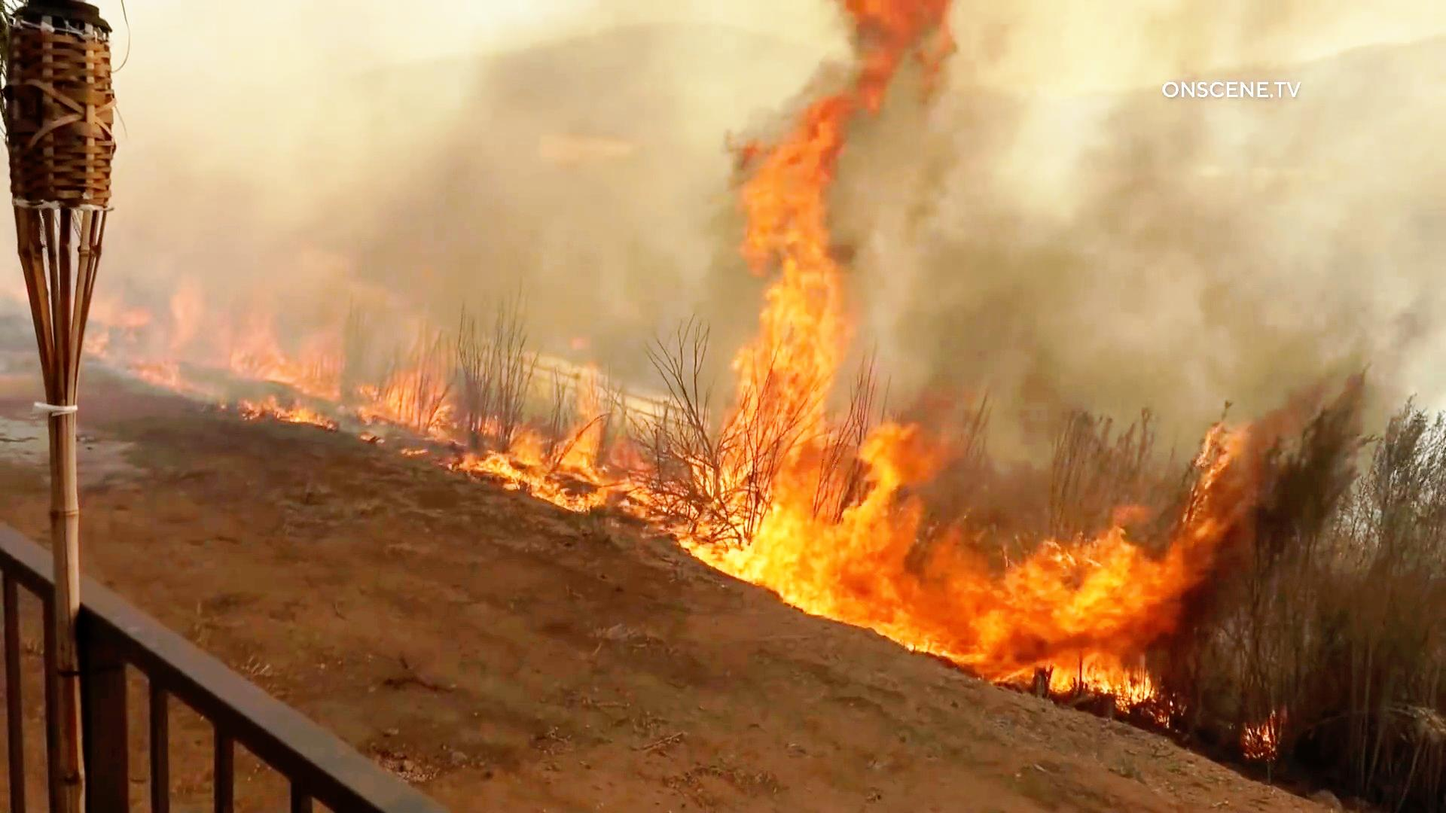fire: (703, 96, 855, 574), (825, 546, 1175, 709), (698, 416, 959, 580), (164, 269, 343, 416)
smoke: (874, 138, 1431, 402), (853, 83, 1157, 396), (364, 12, 667, 290)
